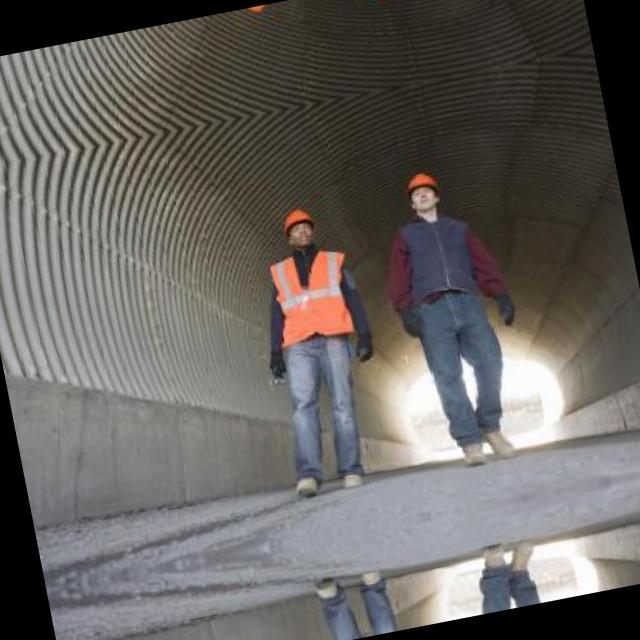helmet: (401, 164, 446, 218), (278, 202, 323, 254), (238, 2, 278, 18), (365, 0, 407, 8)
